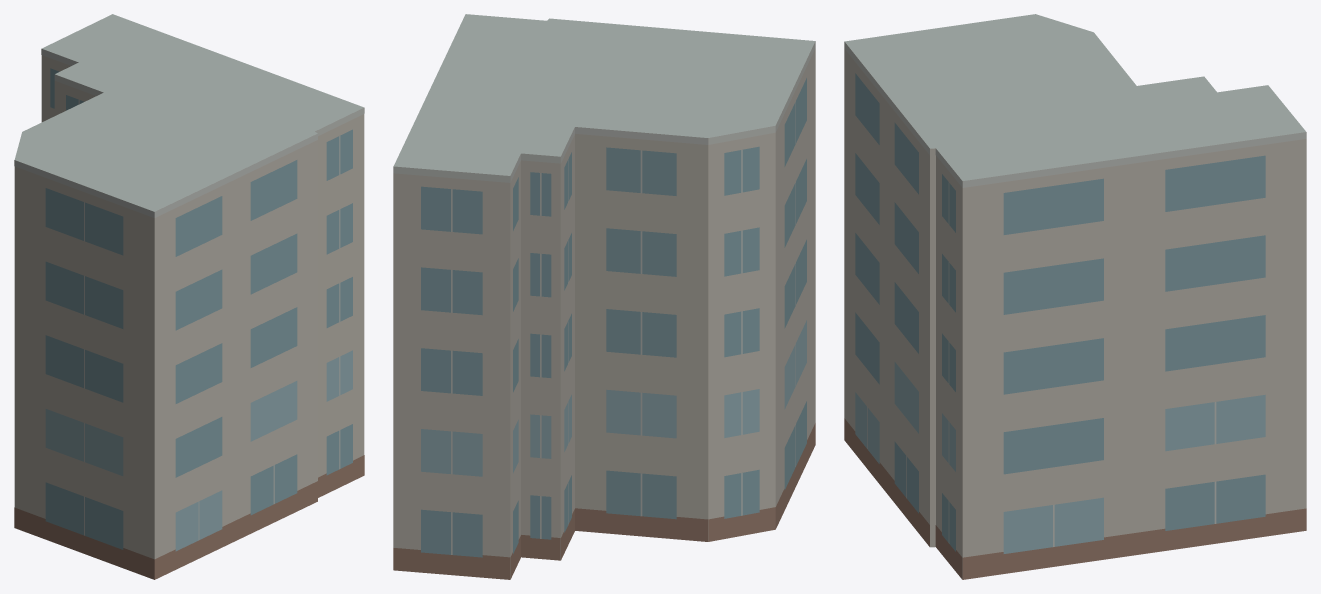
File: survey-upis-32974656.glb
3 views of the same model, side by side, from view 1: azimuth 30°, elevation 25°; view 2: azimuth 150°, elevation 25°; view 3: azimuth 270°, elevation 25° (orthographic). The views are drawn at different scales.
Parts seen in each view (by area): view 1: survey-upis-32974656.tmp; view 2: survey-upis-32974656.tmp; view 3: survey-upis-32974656.tmp.
Boxes of the visible parts, x1,y1,x2,y2 form: survey-upis-32974656.tmp: (14,14,364,579); survey-upis-32974656.tmp: (393,14,815,579); survey-upis-32974656.tmp: (844,14,1306,579).
Bounding box in the file's own units: 12.82 × 14.25 × 14.98.
